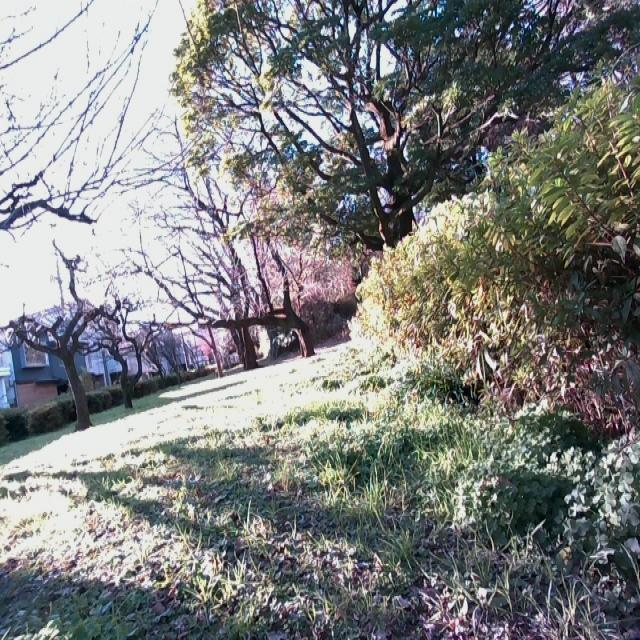bush: (347, 84, 640, 424)
tree: (202, 2, 522, 250), (157, 231, 320, 365), (8, 253, 119, 427), (156, 235, 257, 372), (102, 305, 150, 417)
